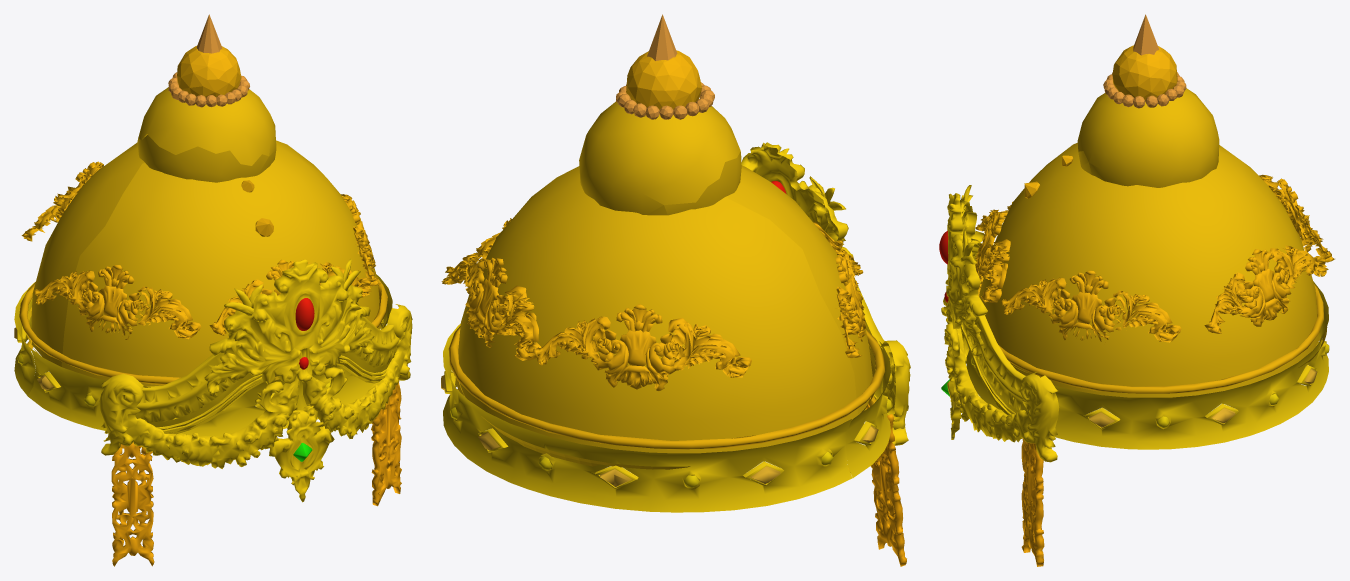
The model's file is IndianCrown.fbx.
The picture shows the model from 3 angles, left to right: view 1: azimuth 30°, elevation 25°; view 2: azimuth 150°, elevation 25°; view 3: azimuth 270°, elevation 25°; orthographic projection. The views are drawn at different scales.
Visible parts, largest first — view 1: diamond_Sphere.022; view 2: diamond_Sphere.022; view 3: diamond_Sphere.022.
Boxes of the visible parts, box(x1,y1,x2,y2) form: diamond_Sphere.022: box(14, 14, 412, 566); diamond_Sphere.022: box(441, 14, 910, 566); diamond_Sphere.022: box(939, 14, 1334, 566).
Bounding box in the file's own units: 237 × 318 × 236.
